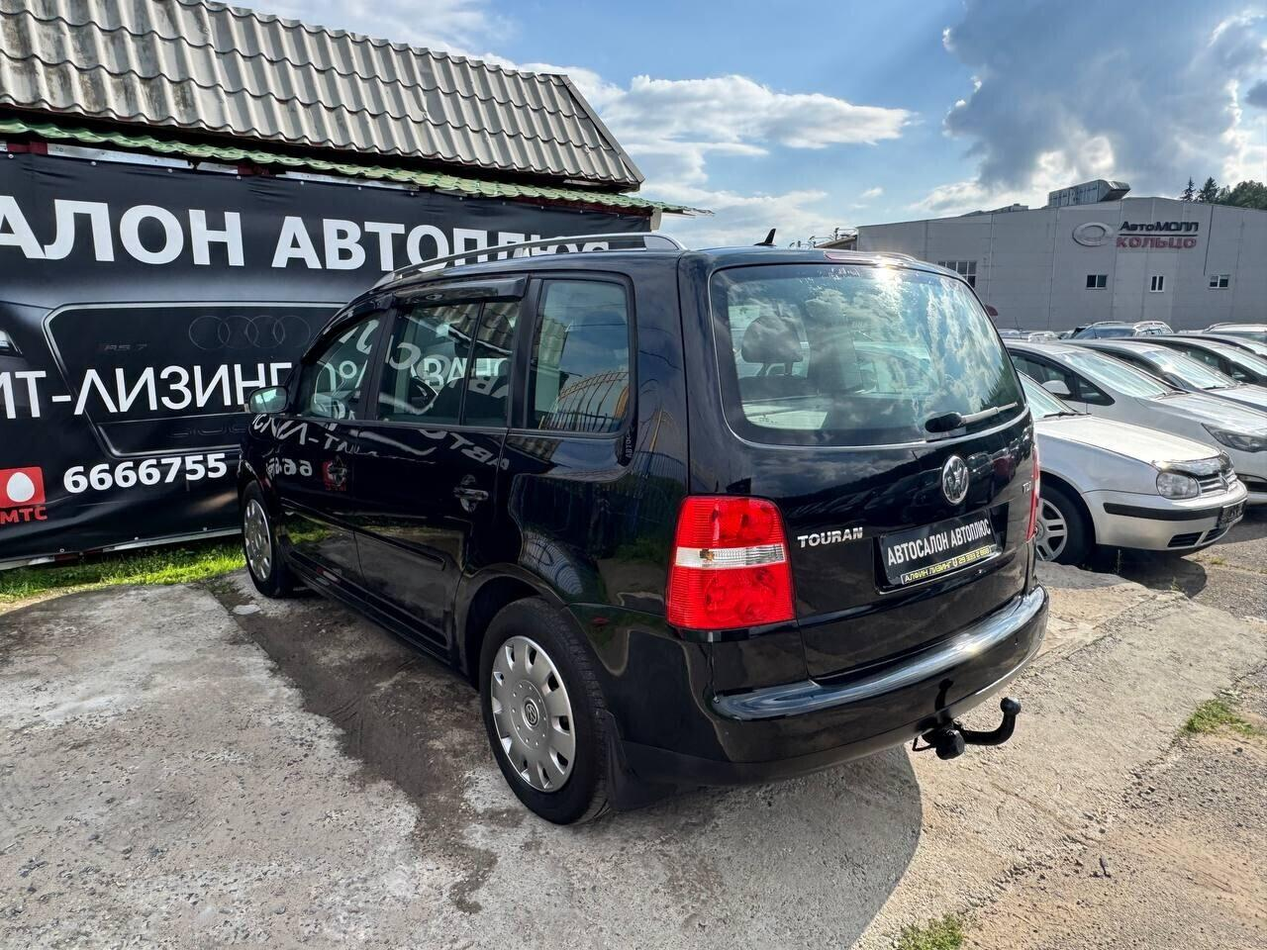Touran_2003-2006: (234, 250, 1050, 819)
